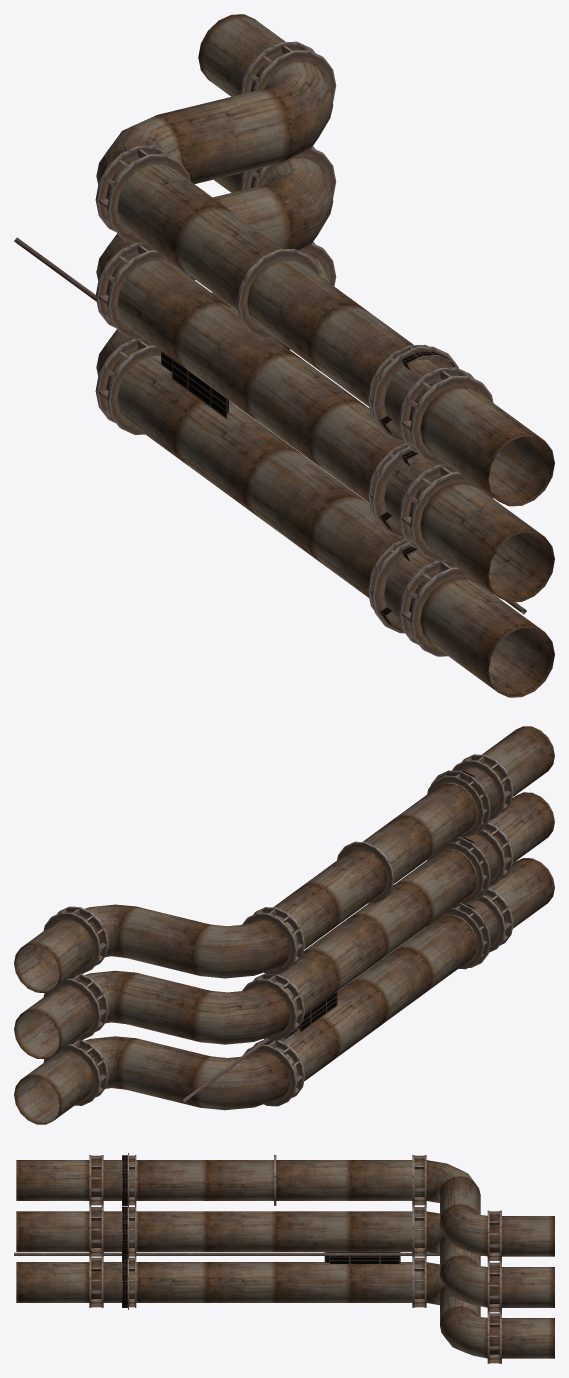
3 renders of one model, top to bottom at view 1: azimuth 30°, elevation 25°; view 2: azimuth 150°, elevation 25°; view 3: azimuth 270°, elevation 25°, orthographic. The views are drawn at different scales.
Visible parts, largest first — view 1: LOD0_1_dc, LOD0_2_dc, LOD0_0_dc; view 2: LOD0_1_dc, LOD0_2_dc, LOD0_0_dc; view 3: LOD0_1_dc, LOD0_2_dc, LOD0_0_dc.
Part boxes in pixels (bbox=[...]): LOD0_1_dc: bbox=[96, 14, 554, 697]; LOD0_2_dc: bbox=[14, 41, 526, 656]; LOD0_0_dc: bbox=[161, 351, 455, 632]; LOD0_1_dc: bbox=[14, 726, 554, 1124]; LOD0_2_dc: bbox=[43, 754, 513, 1106]; LOD0_0_dc: bbox=[284, 770, 489, 1039]; LOD0_1_dc: bbox=[16, 1160, 554, 1358]; LOD0_2_dc: bbox=[14, 1153, 501, 1363]; LOD0_0_dc: bbox=[122, 1155, 400, 1307].
Size of the model in its own units: 30.44 by 27.53 by 88.9.
